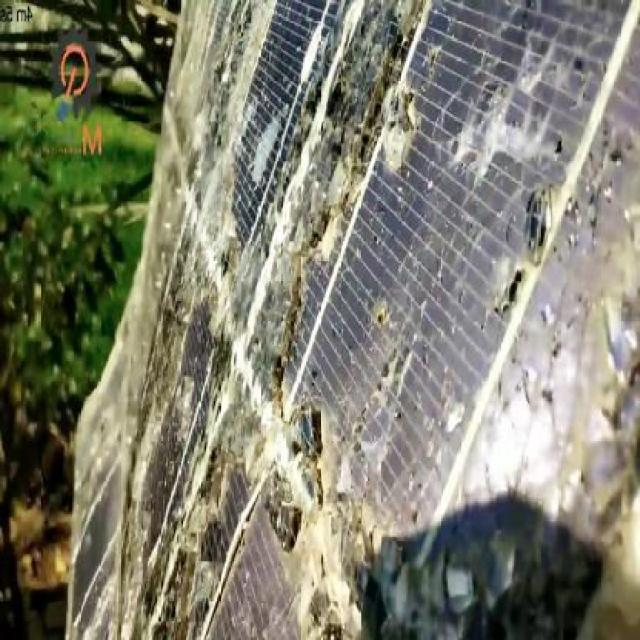cracked: (54, 11, 640, 640)
